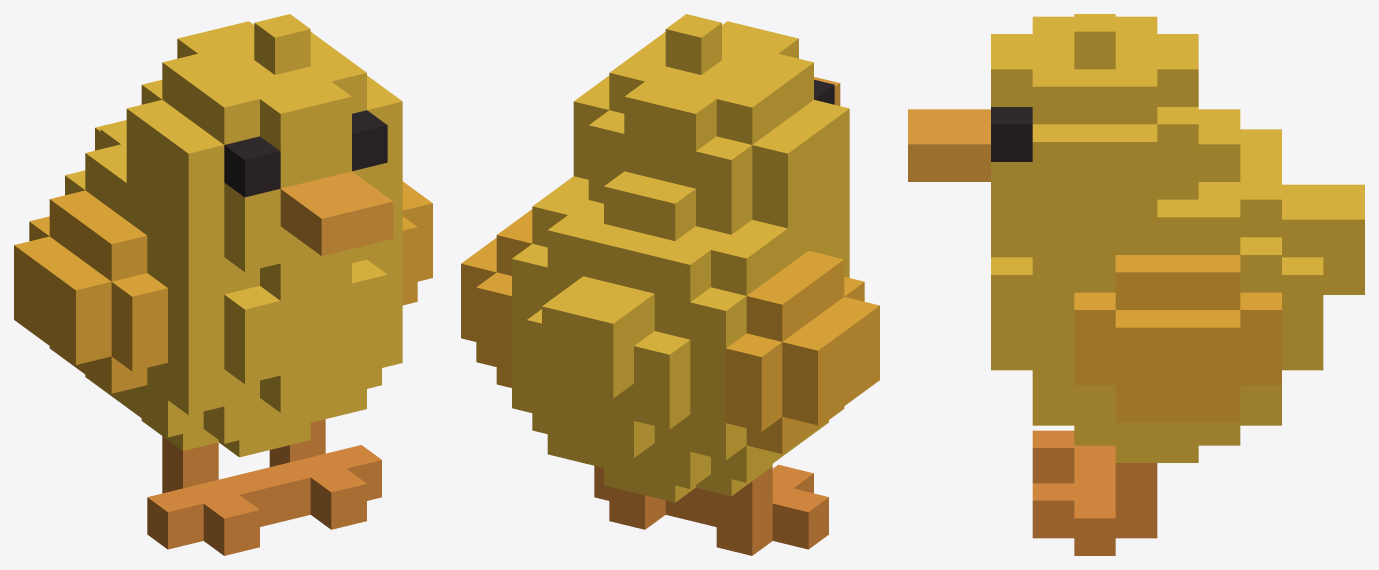
File: chick.glb
The picture shows the model from 3 angles, left to right: view 1: azimuth 30°, elevation 25°; view 2: azimuth 150°, elevation 25°; view 3: azimuth 270°, elevation 25°; orthographic projection.
Parts seen in each view (by area): view 1: chick__head, chick__body, chick__wing_r, chick__leg_r, chick__leg_l, chick__wing_l; view 2: chick__body, chick__head, chick__wing_r, chick__tail, chick__leg_r, chick__wing_l, chick__leg_l; view 3: chick__head, chick__body, chick__wing_l, chick__leg_l, chick__tail, chick__leg_r.
Boxes of the visible parts, left/top/right/bottom form: chick__head: left=126, top=14, right=402, bottom=300; chick__body: left=65, top=123, right=402, bottom=457; chick__wing_r: left=14, top=190, right=167, bottom=393; chick__leg_r: left=147, top=436, right=274, bottom=555; chick__leg_l: left=255, top=419, right=381, bottom=529; chick__wing_l: left=402, top=181, right=432, bottom=305; chick__body: left=512, top=171, right=849, bottom=502; chick__head: left=573, top=14, right=849, bottom=265; chick__wing_r: left=726, top=250, right=879, bottom=453; chick__tail: left=542, top=276, right=654, bottom=398; chick__leg_r: left=701, top=464, right=828, bottom=555; chick__wing_l: left=461, top=209, right=532, bottom=387; chick__leg_l: left=594, top=466, right=701, bottom=529; chick__head: left=908, top=14, right=1198, bottom=257; chick__body: left=991, top=109, right=1323, bottom=462; chick__wing_l: left=1074, top=255, right=1281, bottom=422; chick__leg_l: left=1032, top=463, right=1157, bottom=555; chick__tail: left=1282, top=184, right=1364, bottom=294; chick__leg_r: left=1032, top=430, right=1115, bottom=483.
Bounding box in the file's own units: 1 × 1.3 × 1.1.
1 material, 1 textured.
